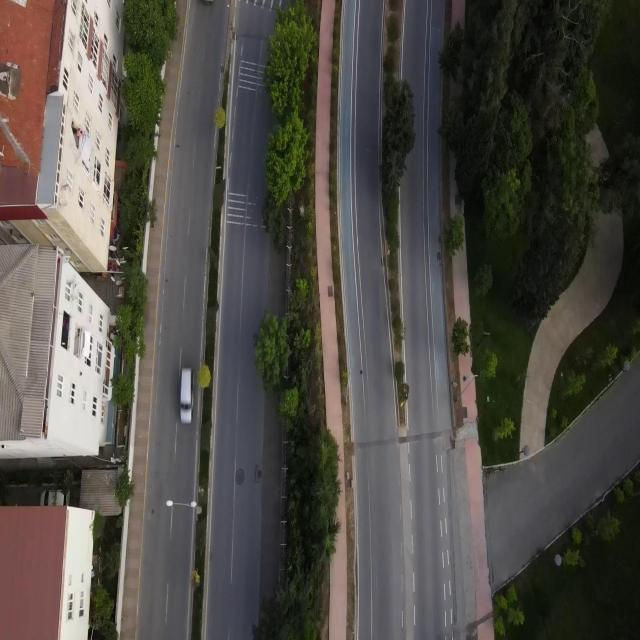p3rson: (76, 128, 83, 137)
